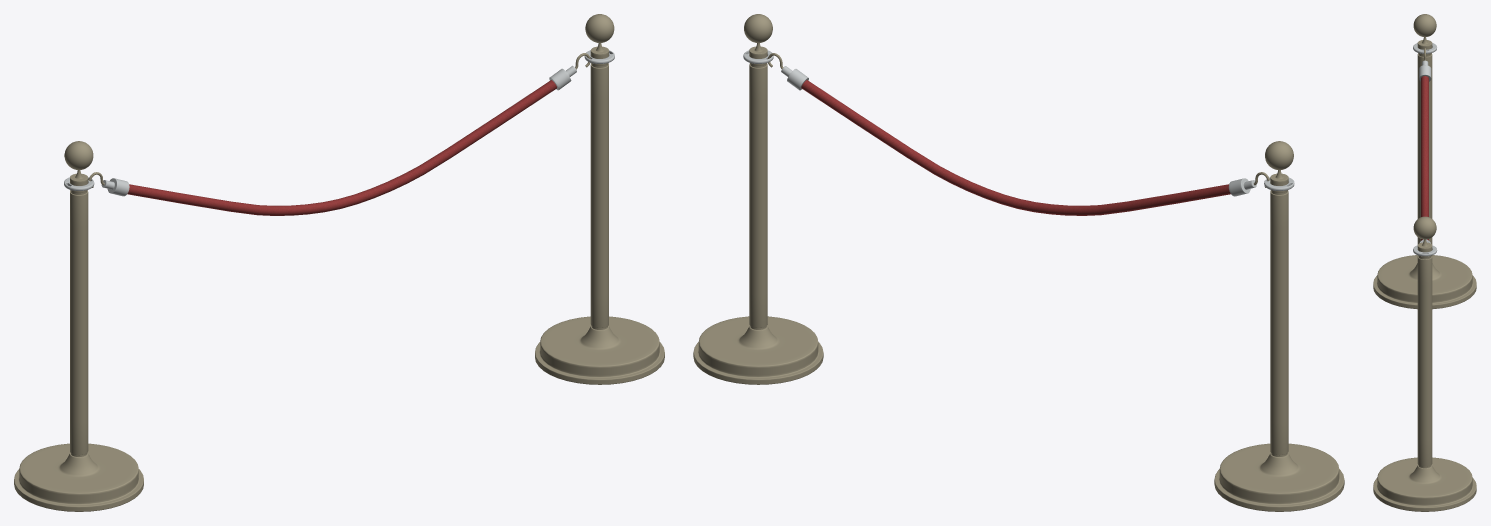
The model's file is vip_rope_barrier.glb.
3 renders of one model, left to right at view 1: azimuth 30°, elevation 25°; view 2: azimuth 150°, elevation 25°; view 3: azimuth 270°, elevation 25°, orthographic. The views are drawn at different scales.
Parts seen in each view (by area): view 1: Cylinder006, Line003, Sphere004, Cylinder007; view 2: Cylinder006, Line003, Sphere004, Cylinder007; view 3: Cylinder006, Line003, Sphere004, Tube004, Cylinder007.
Boxes of the visible parts, x1,y1,x2,y2 form: Cylinder006: (14,43,664,511); Line003: (127,80,557,215); Sphere004: (64,14,614,170); Cylinder007: (101,65,576,196); Cylinder006: (693,43,1344,511); Line003: (801,80,1230,215); Sphere004: (744,14,1293,170); Cylinder007: (781,66,1256,196); Cylinder006: (1373,37,1476,511); Line003: (1421,76,1428,240); Sphere004: (1413,14,1436,239); Tube004: (1413,43,1437,256); Cylinder007: (1419,60,1431,243).
Bounding box in the file's own units: 27.61 × 14.25 × 4.91.
Materials: 3 (2 with a texture image).
